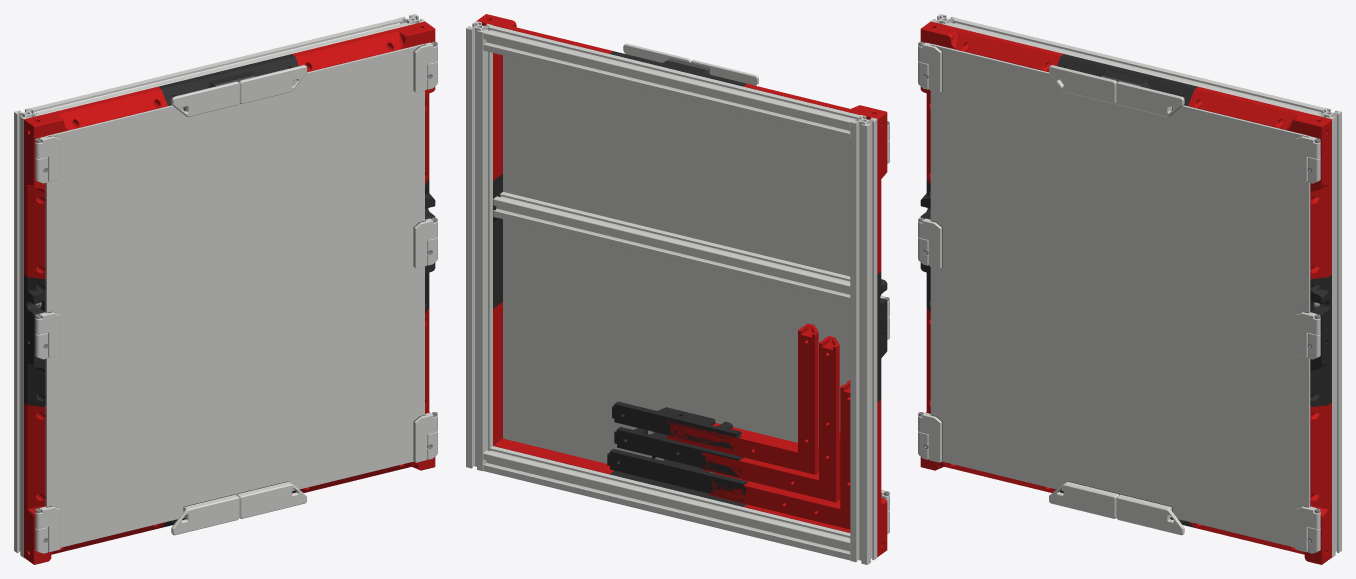
The picture shows the model from 3 angles, left to right: view 1: azimuth 30°, elevation 25°; view 2: azimuth 150°, elevation 25°; view 3: azimuth 330°, elevation 25°; orthographic projection.
Visible parts, largest first — view 1: Door Panel Left, Door Panel Right, Top Left, Frame, Frame002, Bottom Left (1), Top Right, Left Mid, Top Mid, Component041, Component1(Mirror) (1) (1), Component1(Mirror) (1) (1)001 (+9 smaller); view 2: Door Panel Right, Door Panel Left, Frame, Frame001, Frame002, Frame003, Crossbar, Bottom Right (1), Top Right (1), Top Left (1), Top Mid (1), Right Mid (1) (+11 smaller); view 3: Door Panel Right, Door Panel Left, Top Right, Frame001, Frame002, Bottom Right, Top Left, Right Mid, Top Mid, Component1(Mirror) (1) (1), Component041, Component1(Mirror) (1) (1)001 (+9 smaller).
Boxes of the visible parts, x1,y1,x2,y2 form: Door Panel Left: (45,105,235,547); Door Panel Right: (236,44,424,494); Top Left: (24,86,167,278); Frame: (14,107,40,557); Frame002: (32,18,407,114); Bottom Left (1): (24,403,166,564); Top Right: (292,21,435,185); Left Mid: (24,275,45,406); Top Mid: (158,54,298,105); Component041: (171,494,239,535); Component1(Mirror) (1) (1): (236,482,306,518); Component1(Mirror) (1) (1)001: (171,81,239,116); Door Panel Right: (503,55,686,463); Door Panel Left: (686,100,850,472); Frame: (850,115,877,564); Frame001: (466,21,492,471); Frame002: (483,25,859,139); Frame003: (483,446,850,560); Crossbar: (493,192,850,303); Bottom Right (1): (667,323,818,474); Top Right (1): (702,336,840,502); Top Left (1): (709,380,850,529); Top Mid (1): (607,448,747,501); Right Mid (1): (612,401,741,450); Door Panel Right: (1119,105,1310,547); Door Panel Left: (930,44,1119,494); Top Right: (1188,86,1331,278); Frame001: (1315,107,1341,557); Frame002: (948,18,1323,114); Bottom Right: (1189,403,1331,564); Top Left: (920,21,1063,184); Right Mid: (1310,275,1331,406); Top Mid: (1057,54,1197,105); Component1(Mirror) (1) (1): (1116,494,1184,535); Component041: (1049,482,1119,518); Component1(Mirror) (1) (1)001: (1049,65,1116,104).
Bounding box in the file's own units: 0.46 × 0.48 × 0.051.
